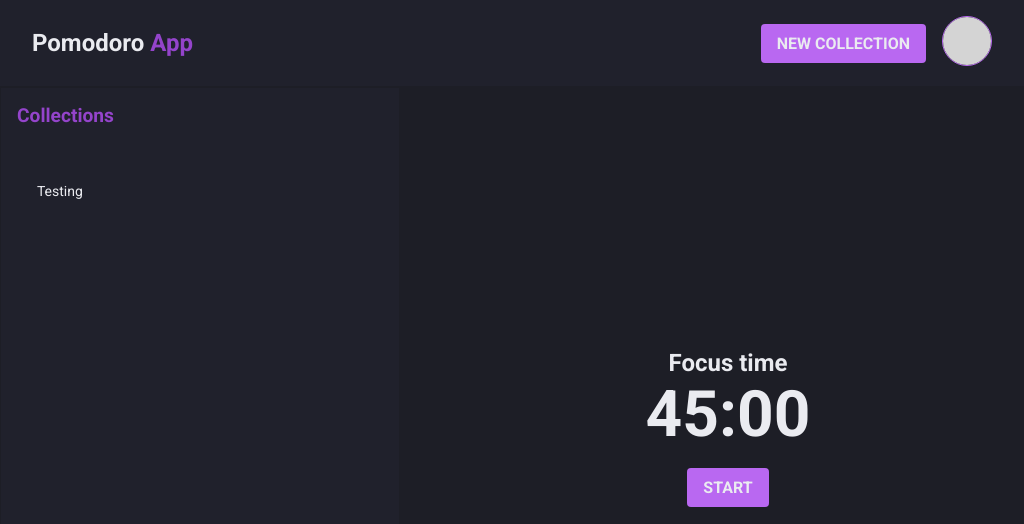
Test: Home › Should not add a todo with empty todo name
Click the button "Testing": (60, 191) [21,167,379,215]
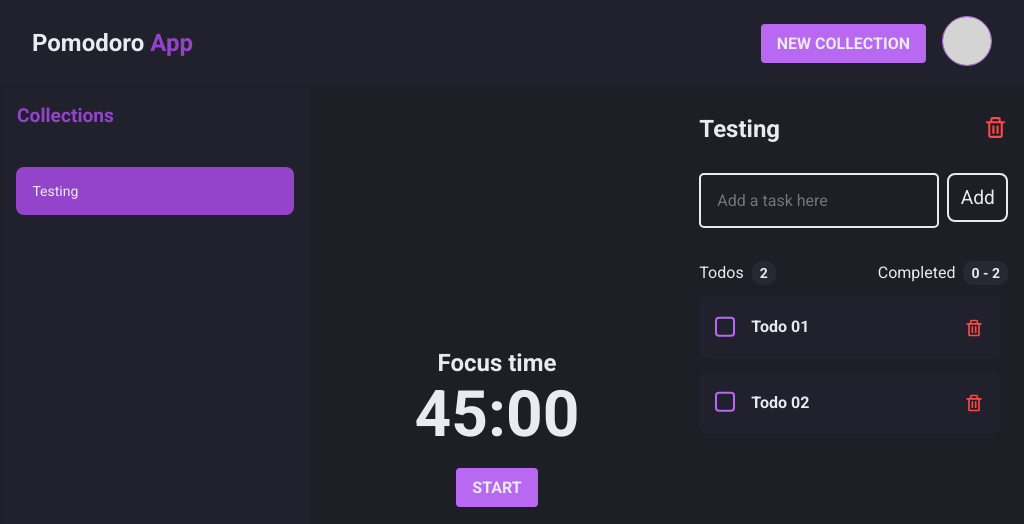
Click the button "Add": (978, 198) [948,173,1008,222]
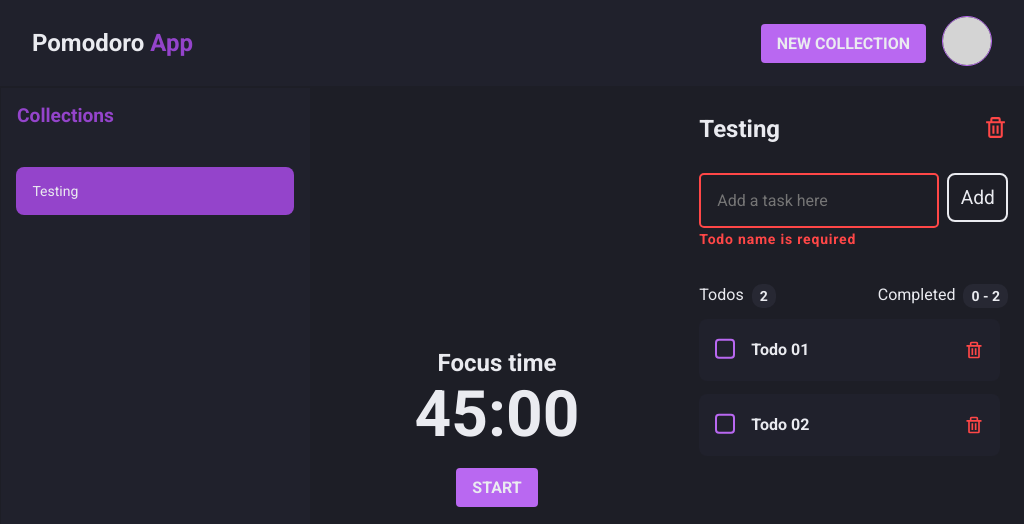
Now the text "Todo name is required" is shown, box [699,231,856,247]
